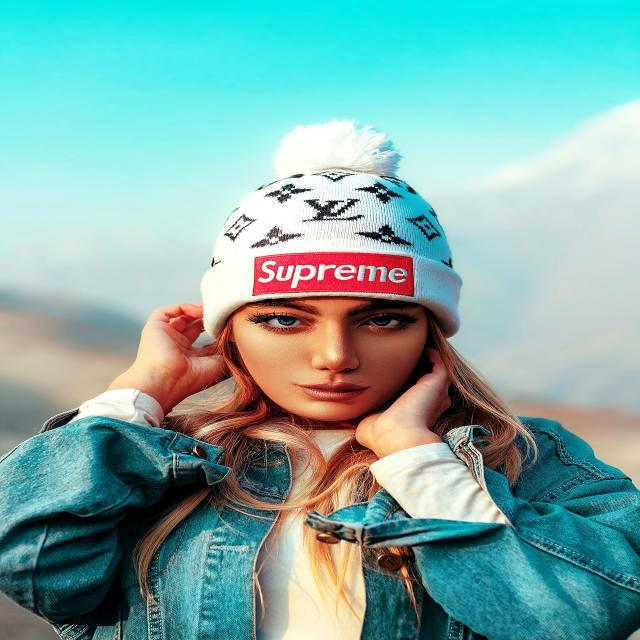no_hard_hat: (202, 168, 462, 336)
person: (0, 121, 640, 640)
